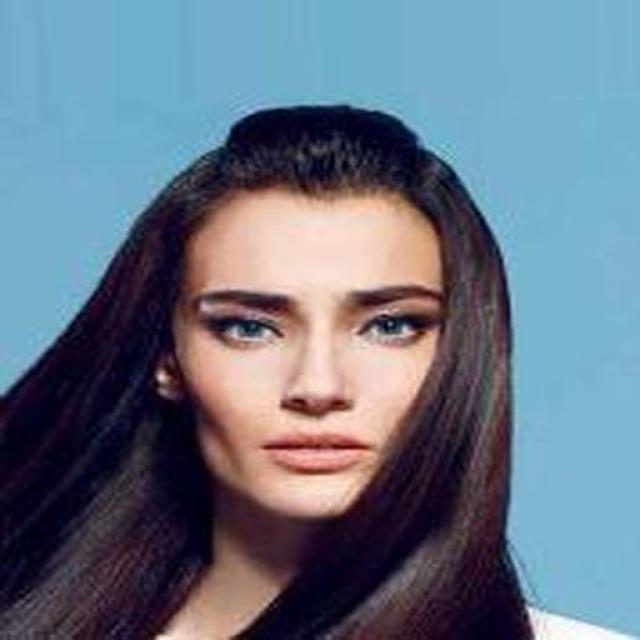bareface: (137, 116, 493, 518)
